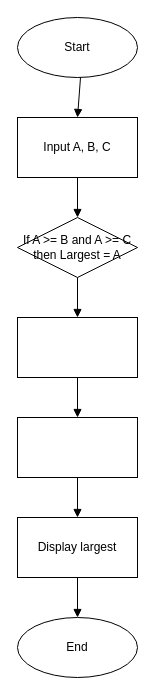
Image size: 155x695. Some labels were removed from this diagram. The centre of each missing label's shape, as x and y in pixels:
"Else if B >= A and B >= C then Largest = B" goes at point 77,347.
"Else Largest = C" goes at point 77,447.
